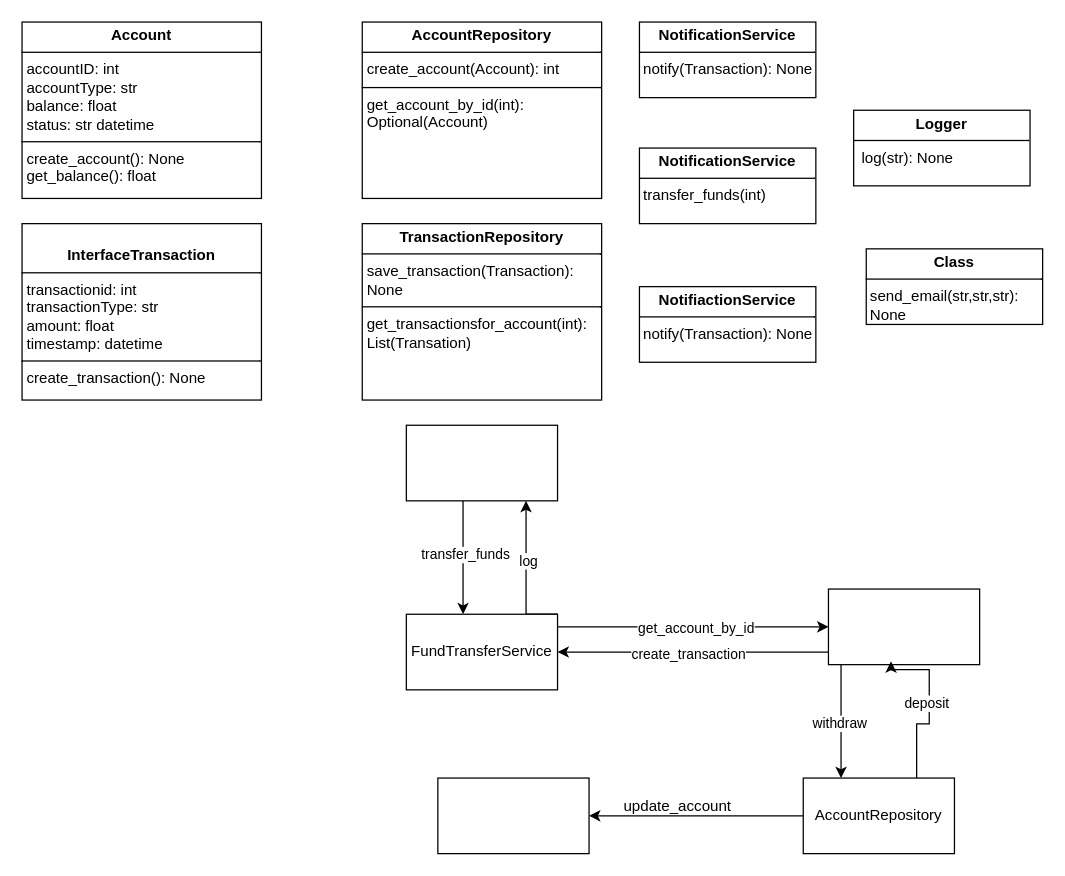
Image size: 1065x876. Some labels were removed from this diagram. The centre of each missing label's shape, as x and y in pixels:
"Transaction" goes at (513,815).
"TransactionService" goes at (903,626).
"User" goes at (481,462).
